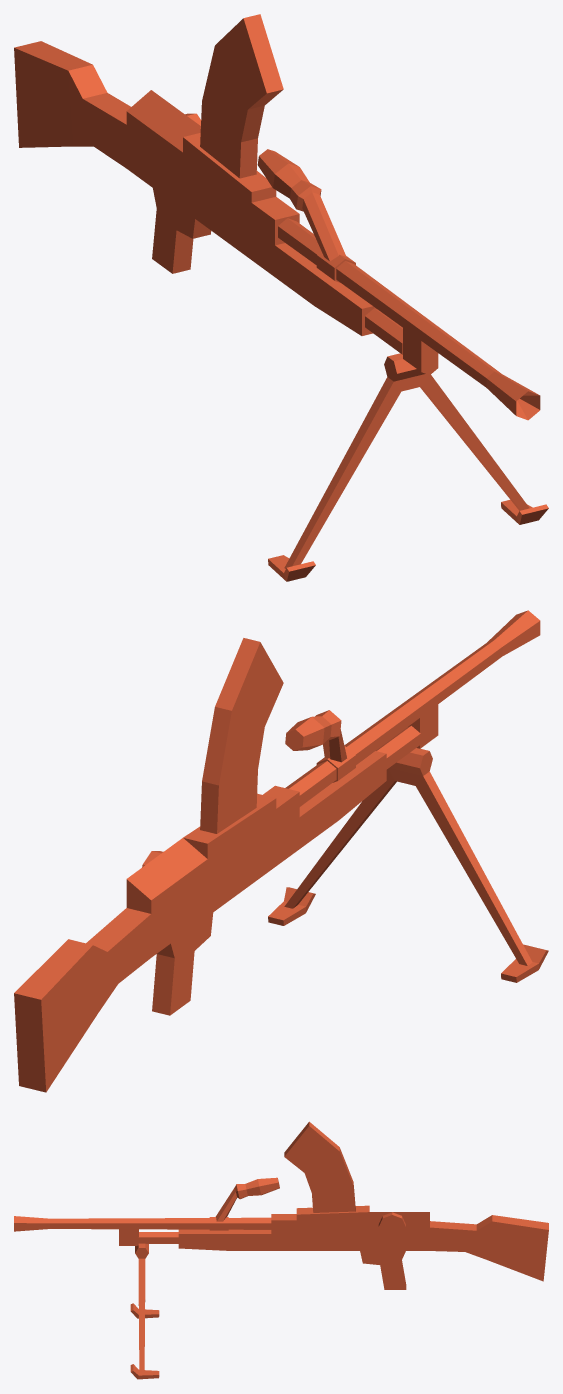
File: brengun.fbx
3 views of the same model, one above another, from view 1: azimuth 30°, elevation 25°; view 2: azimuth 150°, elevation 25°; view 3: azimuth 270°, elevation 25° (orthographic). The views are drawn at different scales.
Visible parts, largest first — view 1: brengun-base, brengun-ammo, brengun-stand; view 2: brengun-base, brengun-ammo, brengun-stand; view 3: brengun-base, brengun-ammo, brengun-stand.
Part boxes in pixels (left/top/right/bottom): brengun-base: left=14, top=41, right=540, bottom=420; brengun-ammo: left=200, top=14, right=283, bottom=178; brengun-stand: left=268, top=353, right=548, bottom=581; brengun-base: left=14, top=610, right=540, bottom=1092; brengun-ammo: left=200, top=638, right=283, bottom=833; brengun-stand: left=268, top=748, right=548, bottom=982; brengun-base: left=14, top=1177, right=548, bottom=1289; brengun-ammo: left=284, top=1121, right=355, bottom=1212; brengun-stand: left=130, top=1243, right=159, bottom=1379.
Size of the model in its own units: 0.3451 by 0.5298 by 1.15.
